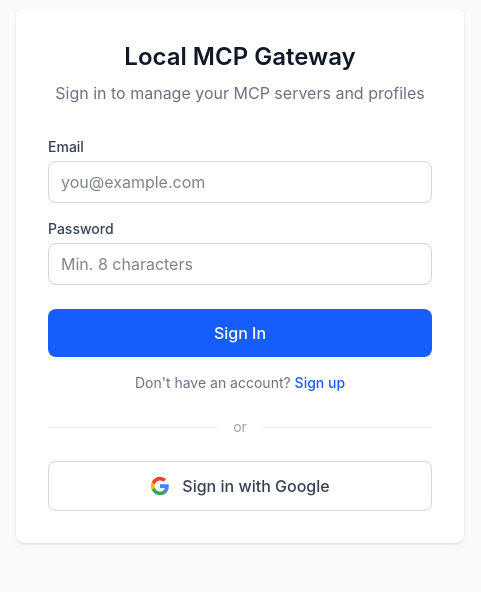
Test: LoginPage › shows the backend error for failed email sign-in
In the field labelled "Email": (240,182) x1=48 y1=161 x2=432 y2=203, type "user@example.com"
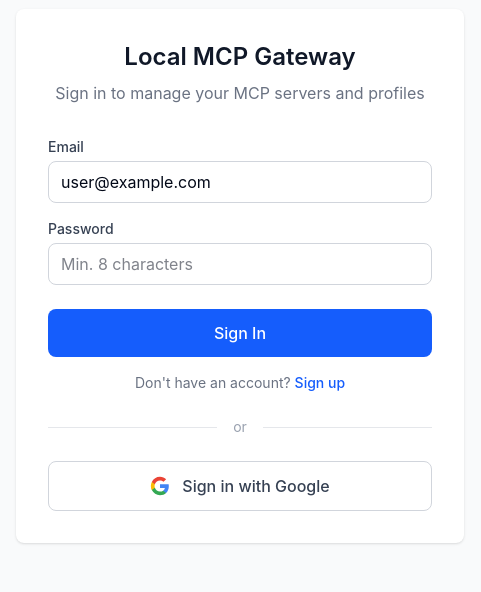
In the password field labelled "Password": (240,264) x1=48 y1=243 x2=432 y2=285, type "password123"
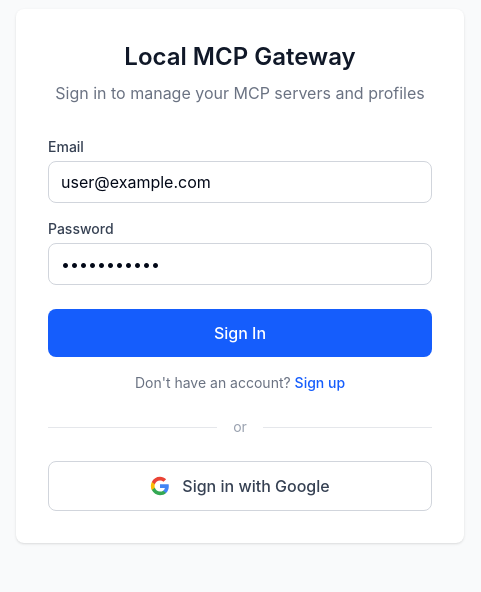
Click the button "Sign In": (240,333) x1=48 y1=309 x2=432 y2=357
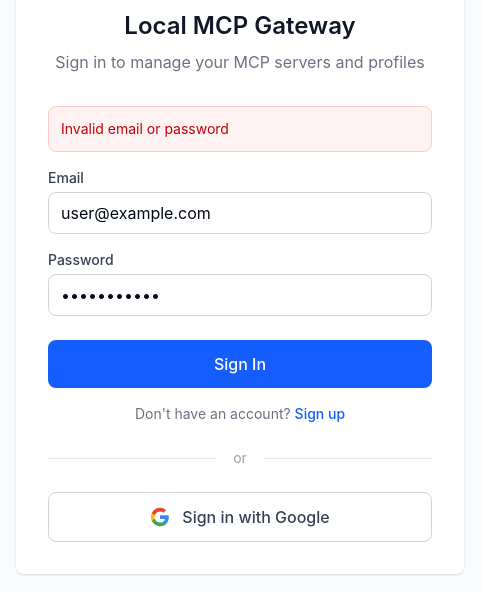
Result: the text "Invalid email or password" is shown at x1=48 y1=106 x2=432 y2=152
